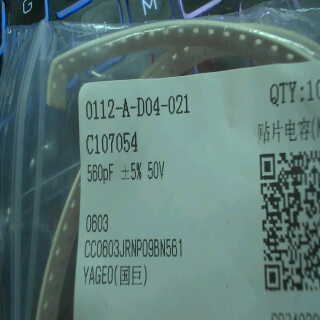560pF: (83, 158, 119, 186)
